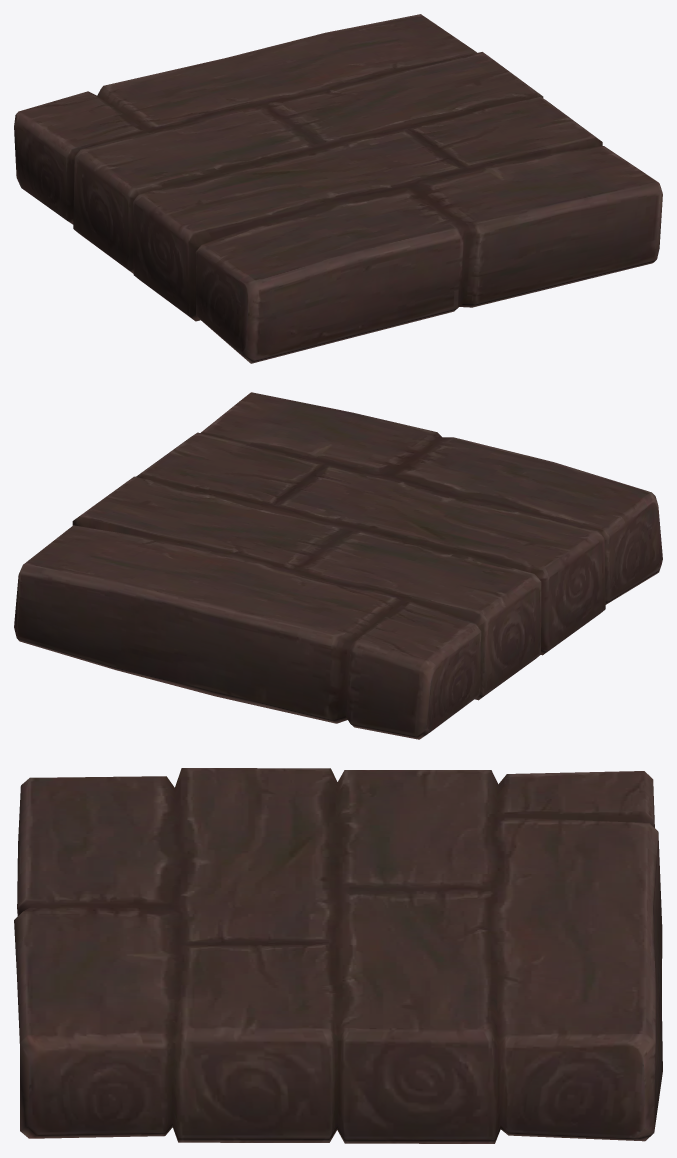
3 renders of one model, top to bottom at view 1: azimuth 30°, elevation 25°; view 2: azimuth 150°, elevation 25°; view 3: azimuth 270°, elevation 25°, orthographic. The views are drawn at different scales.
Size of the model in its own units: 4.05 by 0.7897 by 4.09.
1 material, 1 textured.
